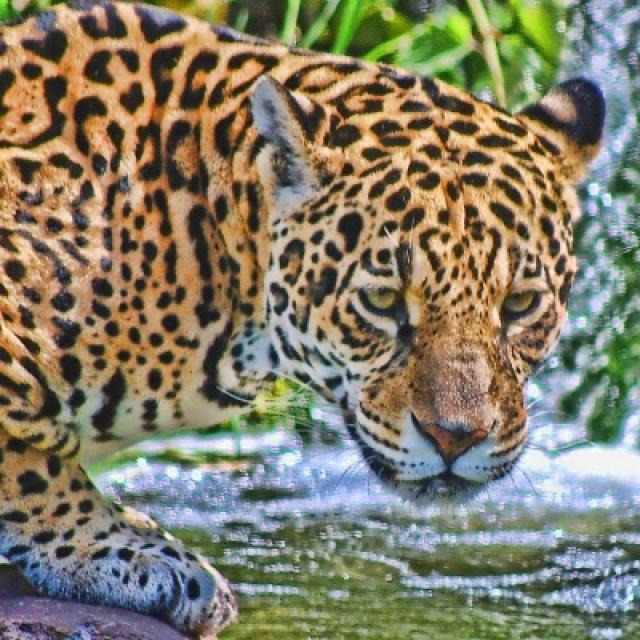Jaguar: (0, 2, 608, 638)
